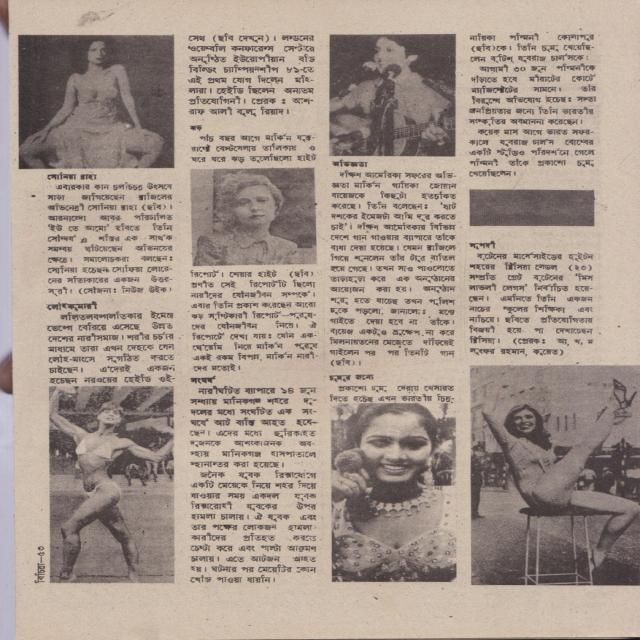image: (469, 365, 640, 584), (49, 386, 173, 582), (330, 403, 454, 582), (18, 35, 173, 167), (332, 35, 453, 155), (189, 169, 316, 264), (470, 189, 595, 226)
page number: (37, 546, 45, 556)
paragraph: (326, 169, 462, 368), (43, 180, 176, 297), (188, 469, 319, 585), (465, 251, 599, 358), (187, 268, 321, 374), (185, 32, 318, 118), (187, 385, 319, 469), (45, 309, 178, 385), (464, 62, 601, 127), (466, 127, 600, 180), (188, 131, 319, 165), (464, 31, 597, 64), (324, 384, 457, 402)
text: (34, 563, 45, 583)
title: (43, 300, 101, 312), (326, 372, 376, 383), (329, 158, 371, 169), (45, 172, 99, 180), (466, 238, 502, 250), (187, 374, 218, 385), (187, 124, 204, 133)
